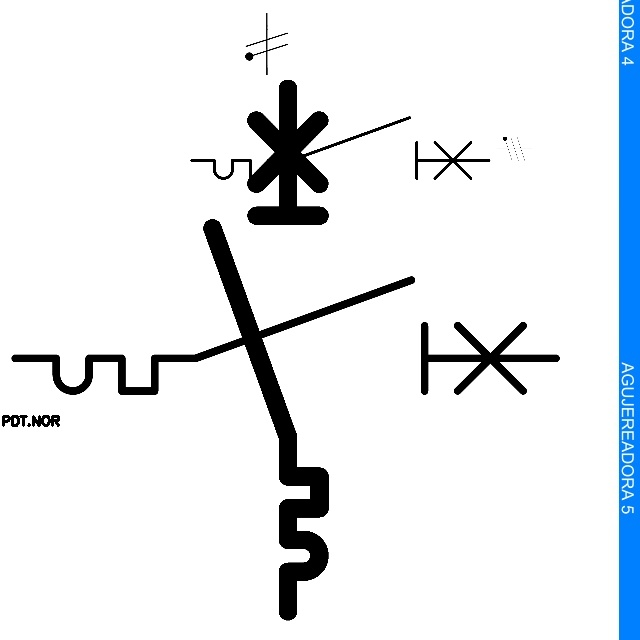interruptor_termomagnetico: (1, 266, 569, 405), (199, 75, 333, 625), (184, 110, 497, 186)
